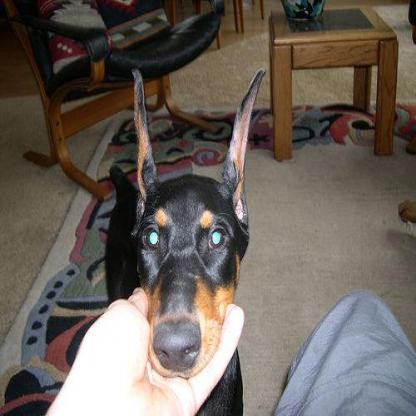Doberman: (107, 66, 264, 413)
